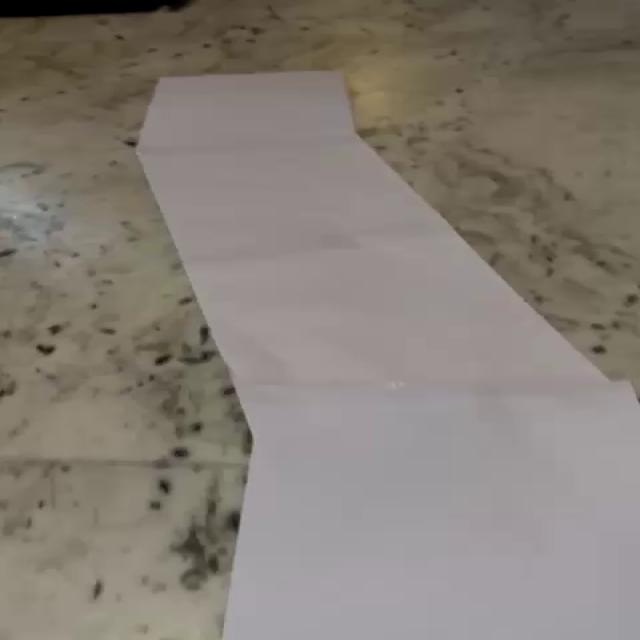road: (135, 66, 637, 640)
